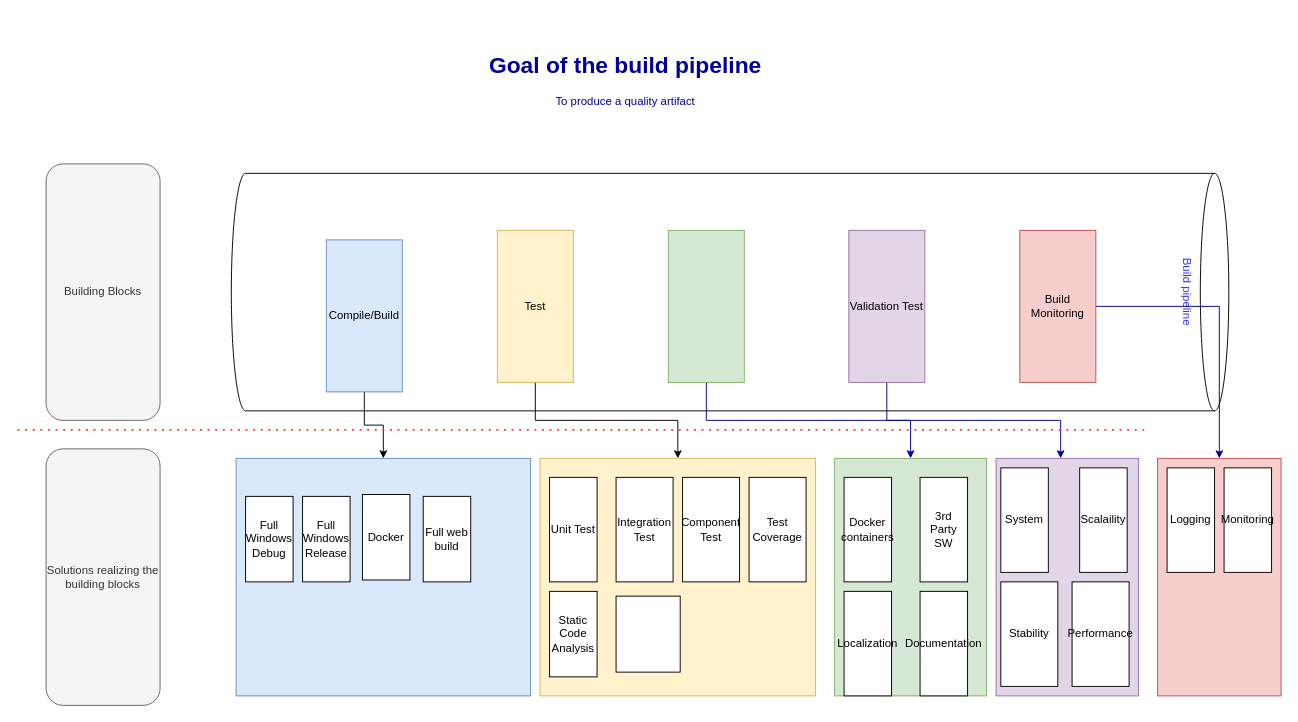
Image size: 1298x722. Some labels were removed from this diagram. Each missing label, with the centre of its shape:
3rd Party Component Usage Tests: point (647, 633)
Packaging: point (705, 305)
